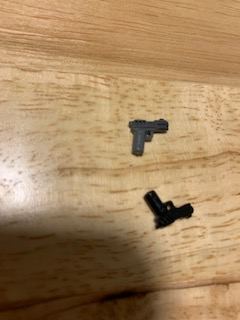pistol: (141, 185, 196, 230), (126, 117, 171, 157)
